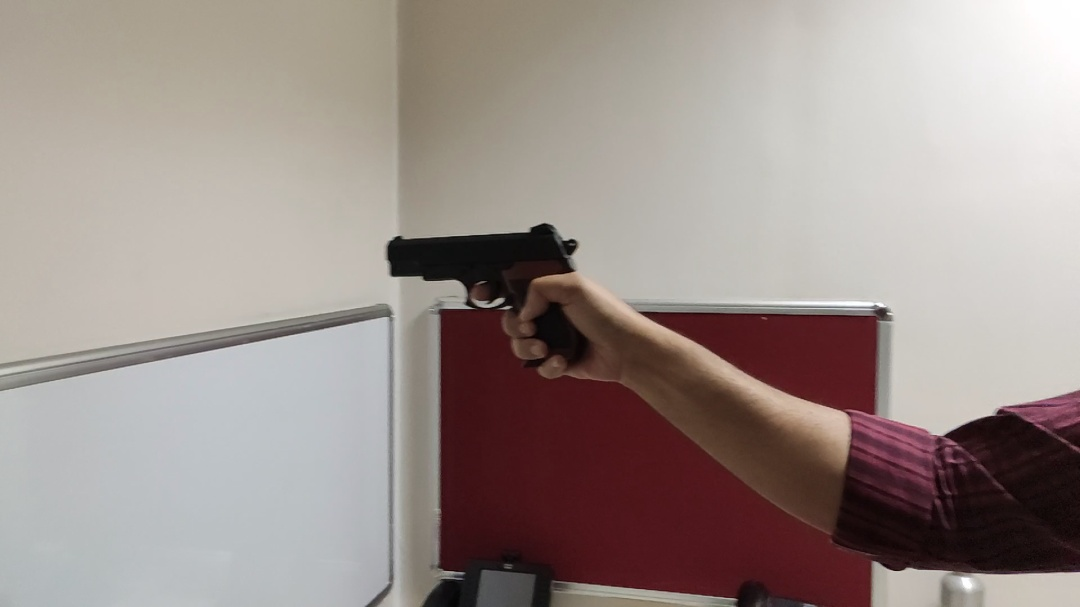gun: (387, 223, 589, 368)
